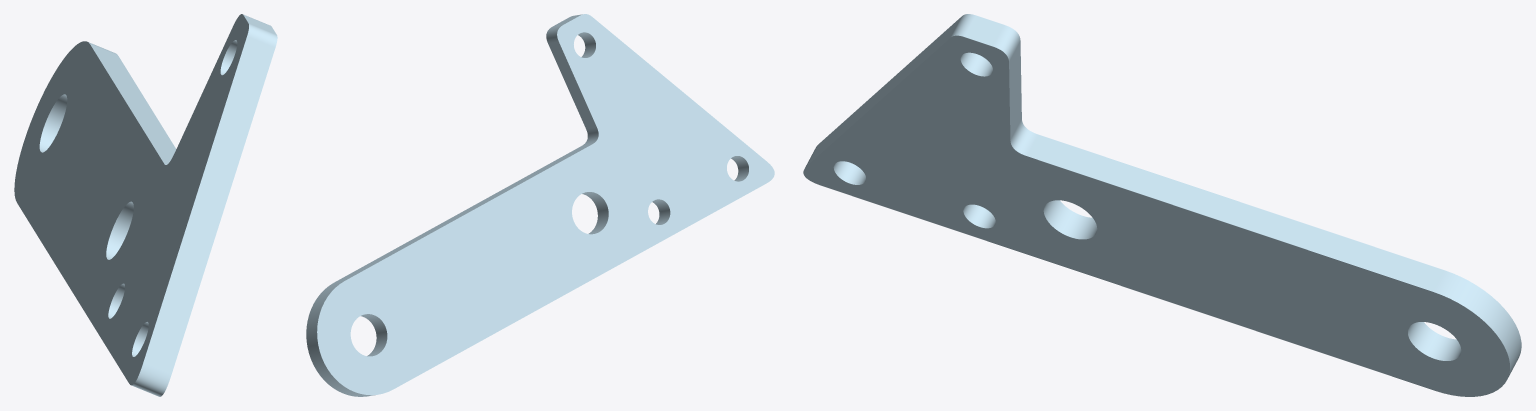
3 views of the same model, side by side, from view 1: azimuth 30°, elevation 25°; view 2: azimuth 150°, elevation 25°; view 3: azimuth 270°, elevation 25° (orthographic). The views are drawn at different scales.
Visible parts, largest first — view 1: mesh1531, mesh1532, mesh1535, mesh1538, mesh1529, mesh1545, mesh1541, mesh1542, mesh1543, mesh1544; view 2: mesh1531, mesh1534, mesh1535, mesh1536, mesh1529, mesh1545; view 3: mesh1530, mesh1535, mesh1534, mesh1532, mesh1545, mesh1529, mesh1536, mesh1537.
Part boxes in pixels (x1,y1,x2,y2): mesh1531: (14,14,248,385); mesh1532: (143,36,275,373); mesh1535: (90,44,176,164); mesh1538: (131,363,171,396); mesh1529: (39,94,67,152); mesh1545: (106,201,133,259); mesh1541: (247,23,277,47); mesh1542: (220,40,237,75); mesh1543: (108,283,124,318); mesh1544: (132,322,148,356); mesh1531: (317,14,774,395); mesh1534: (306,281,375,396); mesh1535: (334,144,591,282); mesh1536: (548,42,596,128); mesh1529: (361,314,387,356); mesh1545: (582,192,608,234); mesh1530: (803,35,1509,396); mesh1535: (1027,134,1444,291); mesh1534: (1434,270,1521,377); mesh1532: (808,17,961,164); mesh1545: (1043,200,1097,239); mesh1529: (1408,322,1461,360); mesh1536: (1009,41,1021,139); mesh1537: (965,15,1003,46).
Size of the model in its own units: 0.0297 by 0.0335 by 0.0612.
